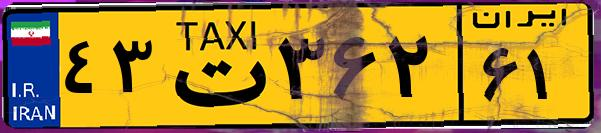1: (525, 38, 570, 115)
2: (385, 28, 445, 110)
3: (270, 28, 330, 110), (110, 28, 158, 98)
4: (57, 26, 110, 100)
6: (330, 28, 385, 110), (475, 38, 525, 113)
ت: (158, 12, 270, 120)
